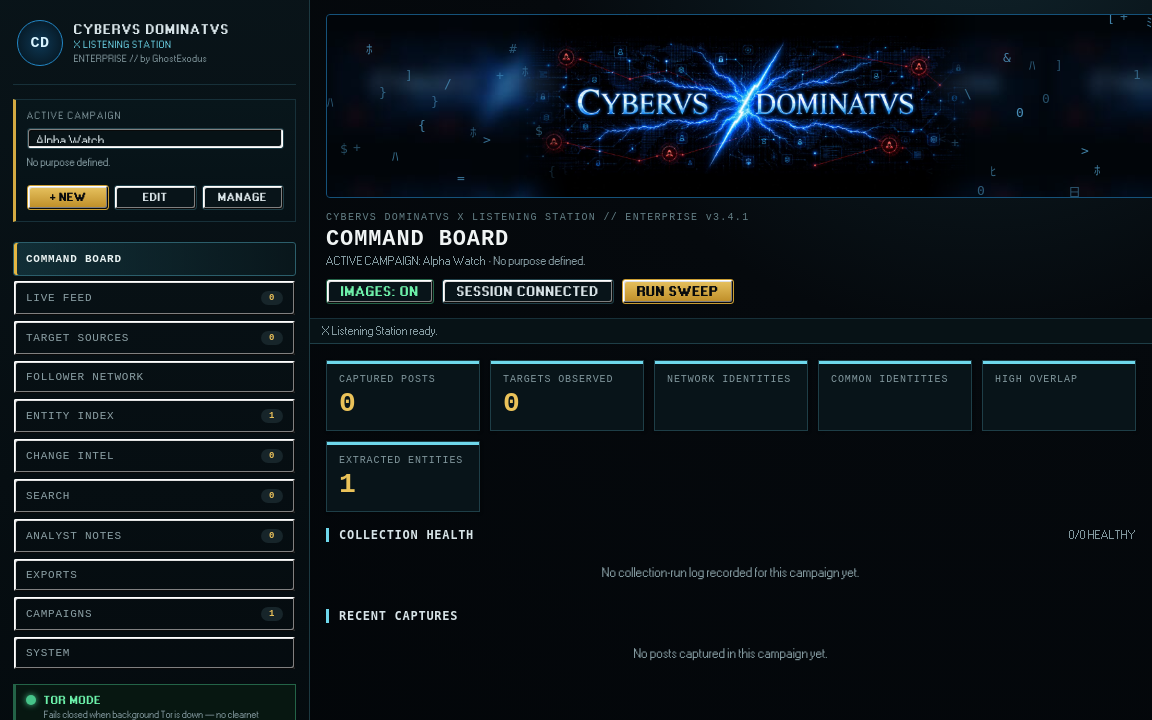
Test: X Listening ENTITY INDEX — display pics › surfaces a blocked gate AND offers the acknowledgement that unblocks it
Click the button with class "xls-tab" showing "ENTITY INDEX 1" at x=70, y=416, box [13,398,296,434]
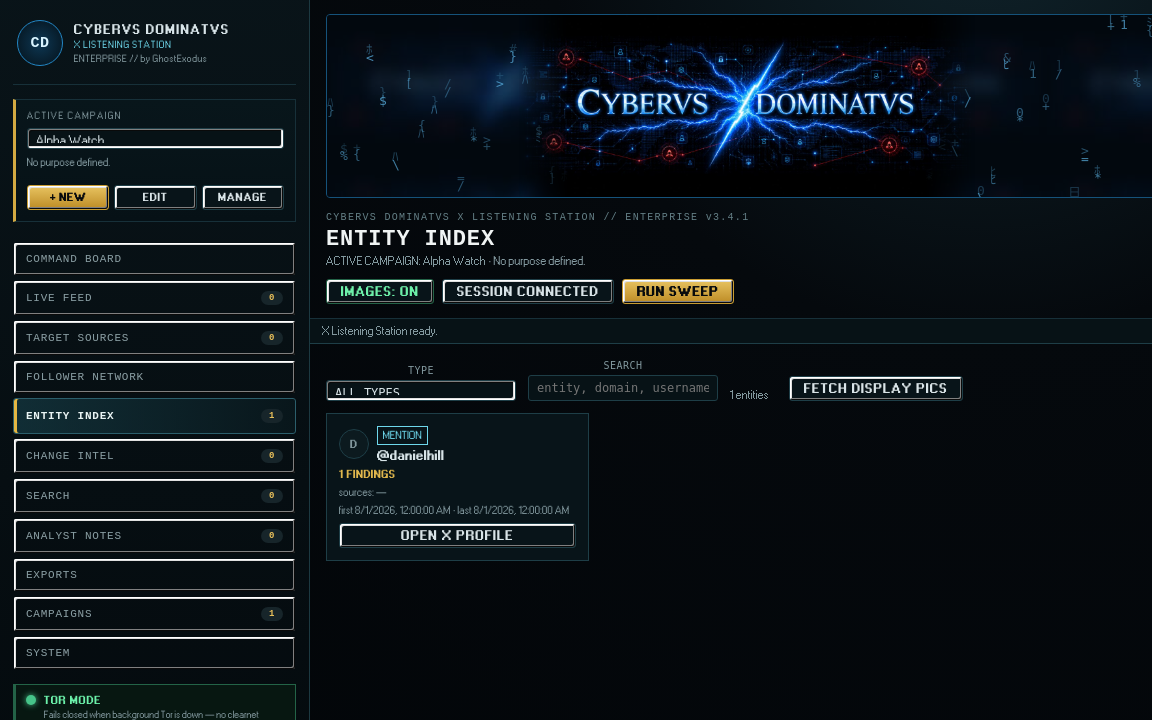
Click the button "FETCH DISPLAY PICS" at x=876, y=389, box [789,376,963,401]
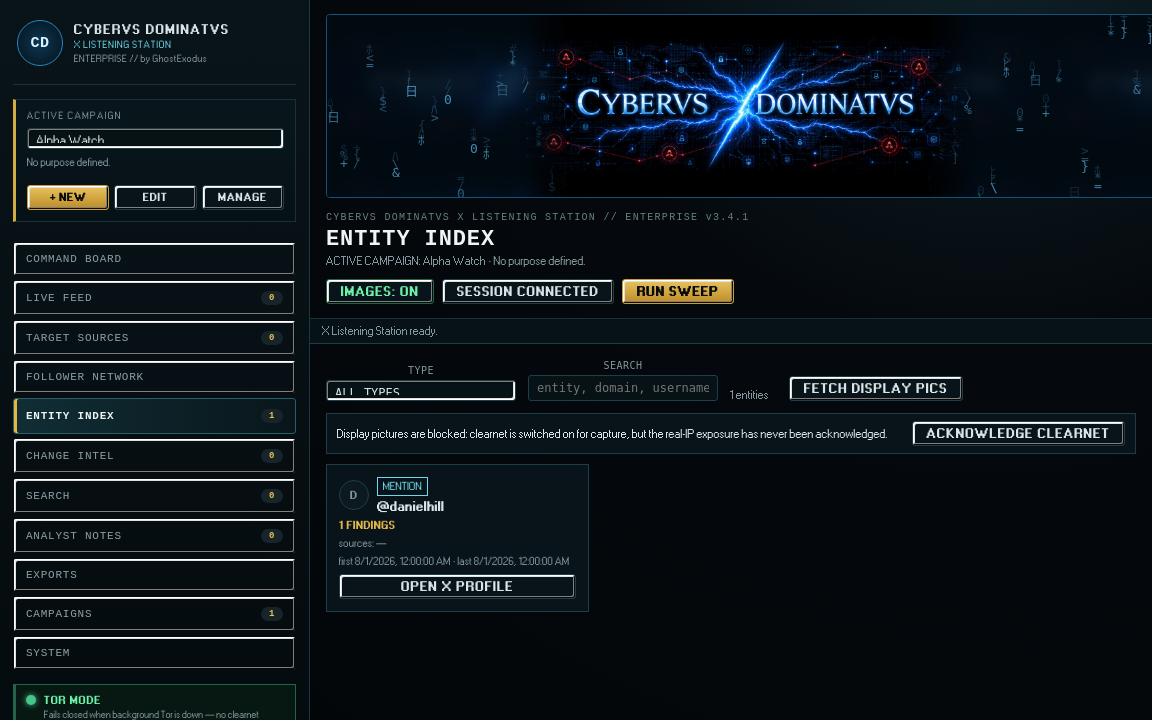
Check: the text "never been acknowledged" is shown, box [337,428,888,440]
Check: the button "ACKNOWLEDGE CLEARNET" is shown, box [912,421,1125,446]
